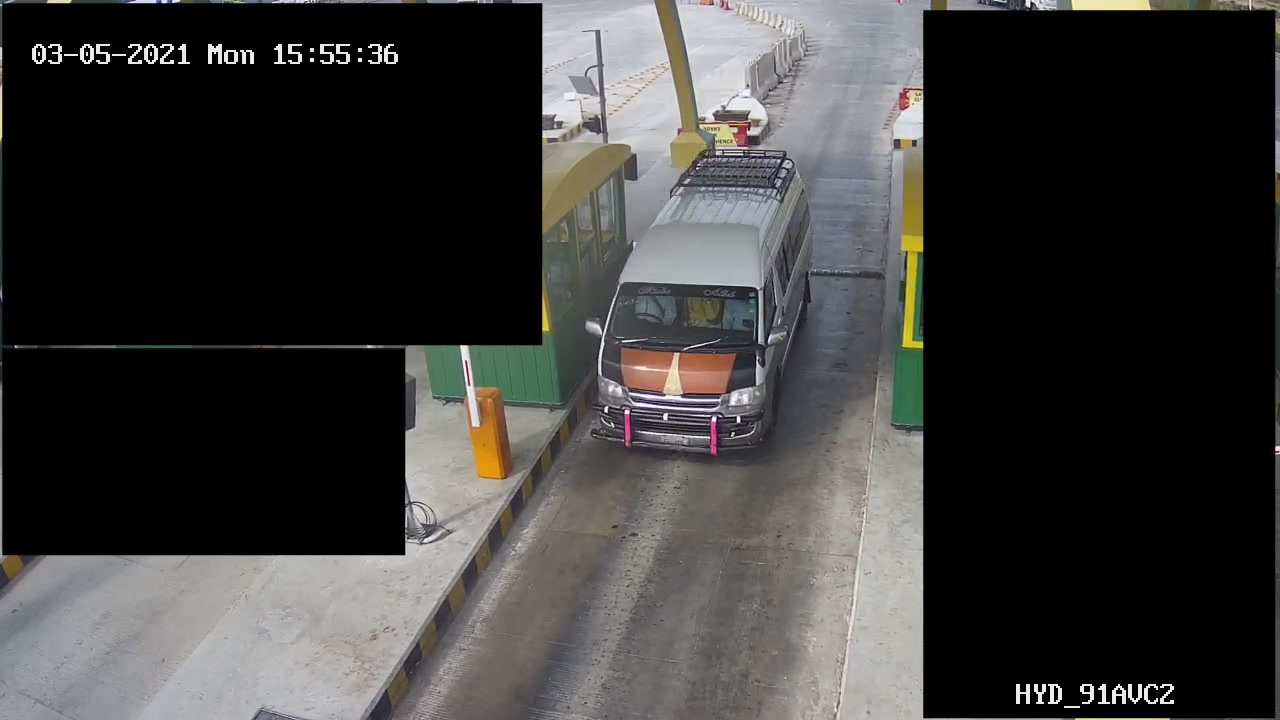F2: (569, 141, 861, 468)
